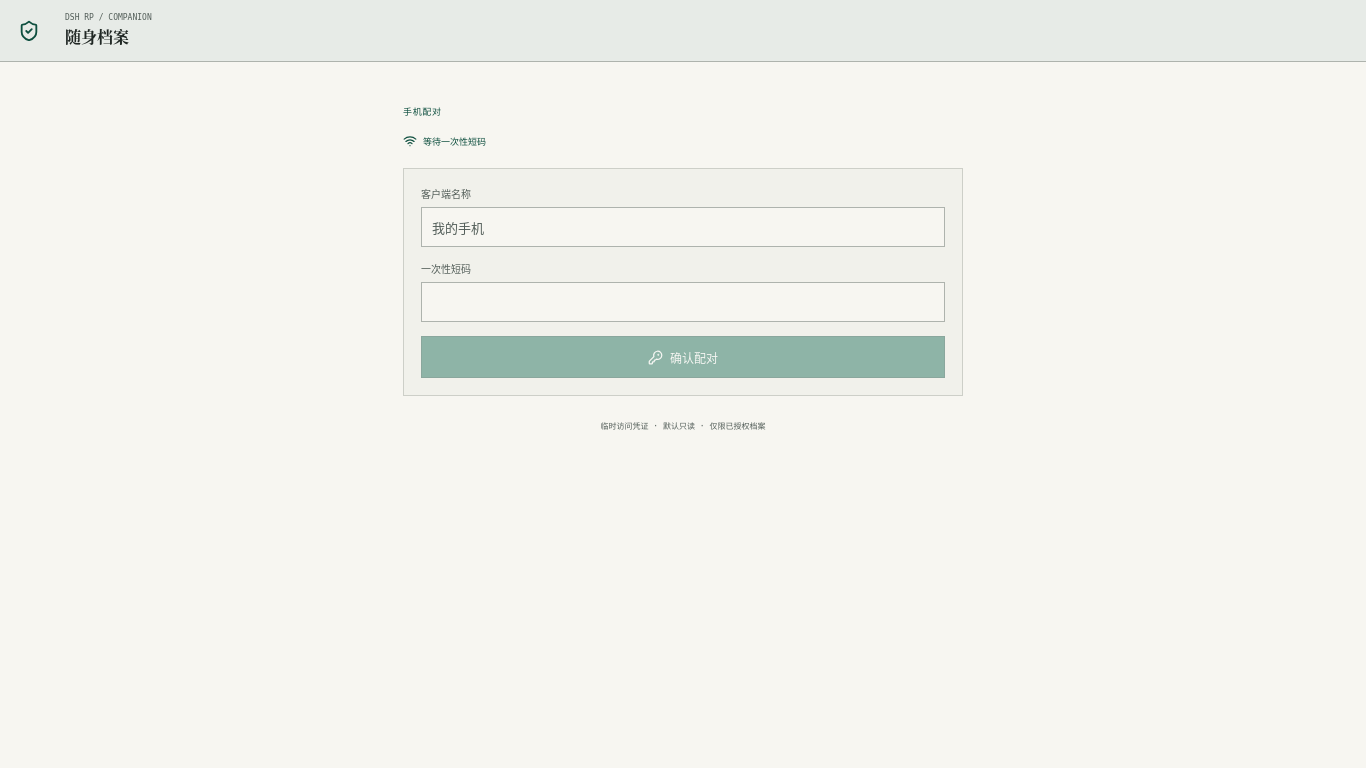
Test: companion session isolation › removes authenticated content and stops work after http revocation
Type "one-time-code-123456789" into the field named "一次性配对短码" at (683, 302), box [421,282,945,322]
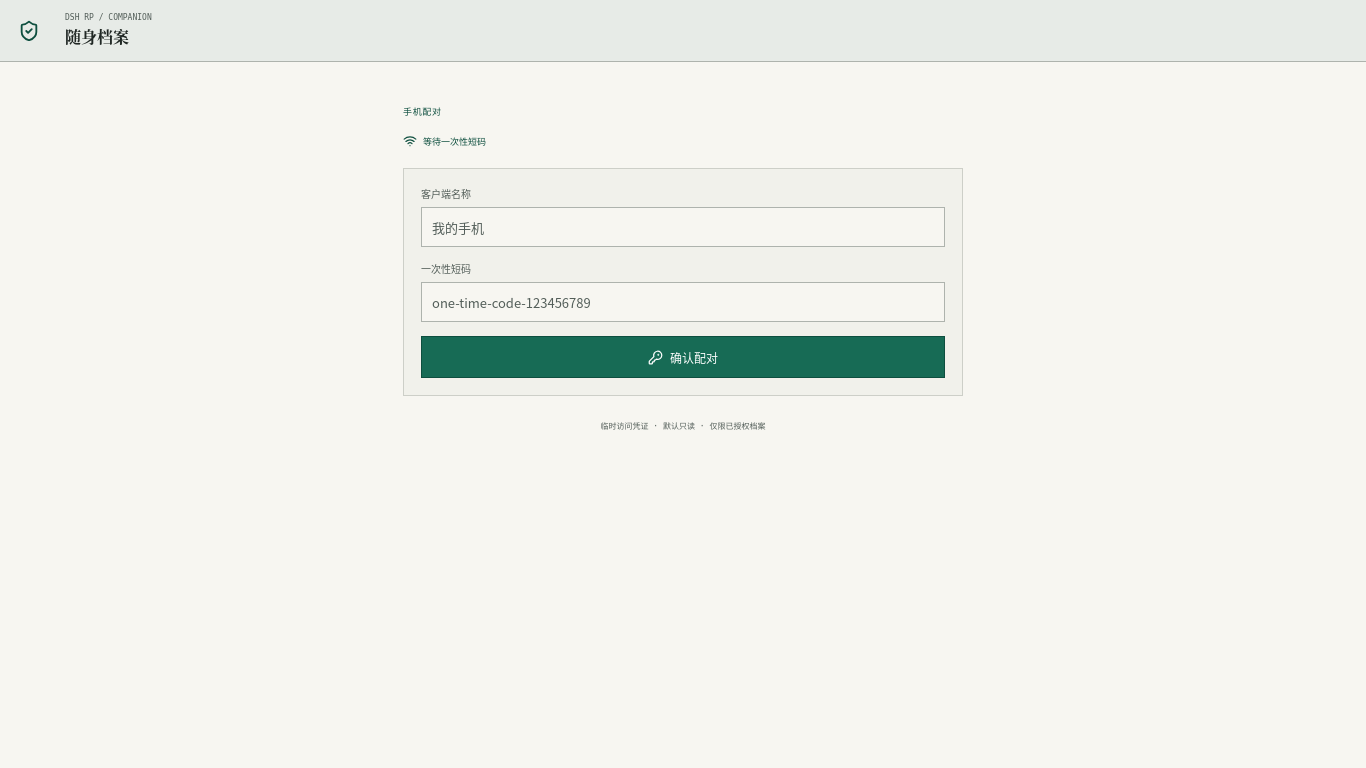
Click the button "确认配对" at (683, 357), box [421,336,945,378]
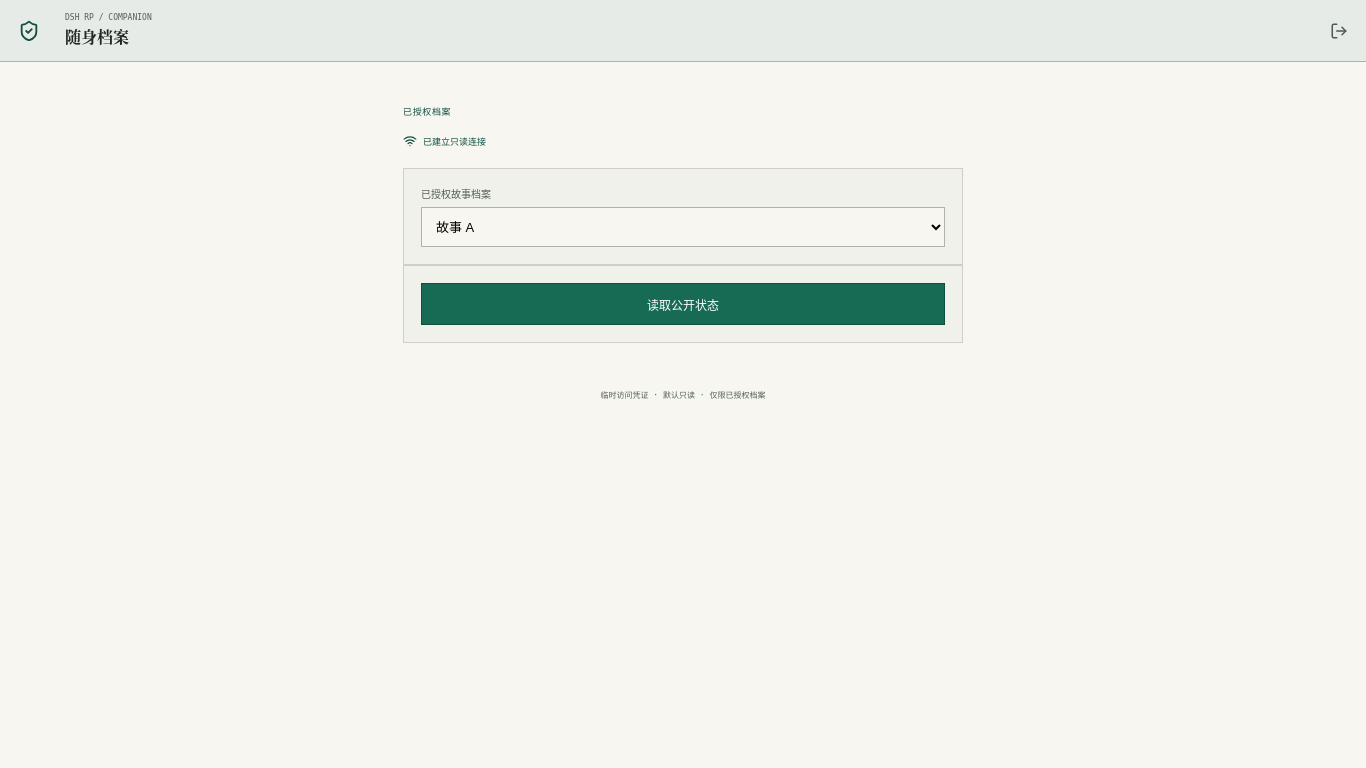
Check: the dropdown labelled "已授权故事档案" is shown, box [421,207,945,247]
Click the button "读取公开状态" at (683, 304), box [421,283,945,325]
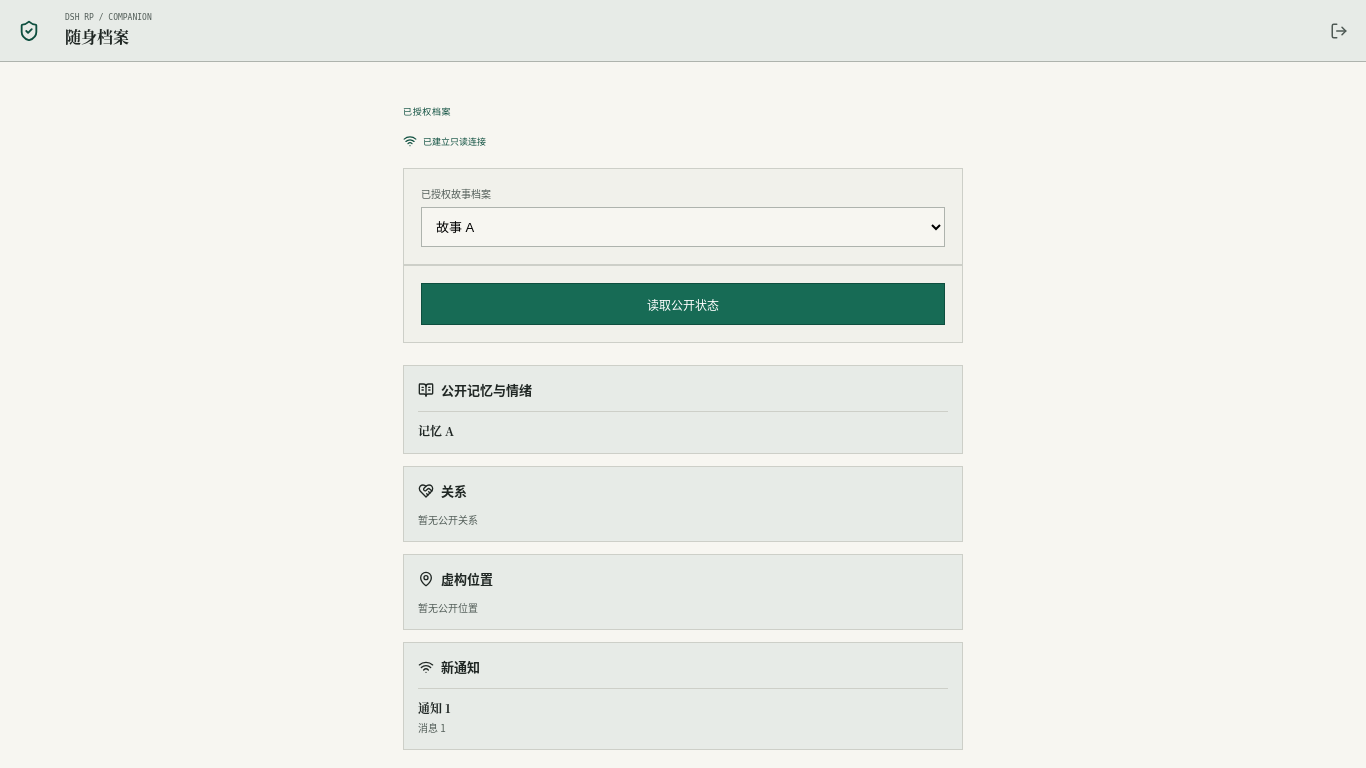
Check: the text "记忆 A" is shown, box [418,422,454,439]
Click the button "读取公开状态" at (683, 304), box [421,283,945,325]
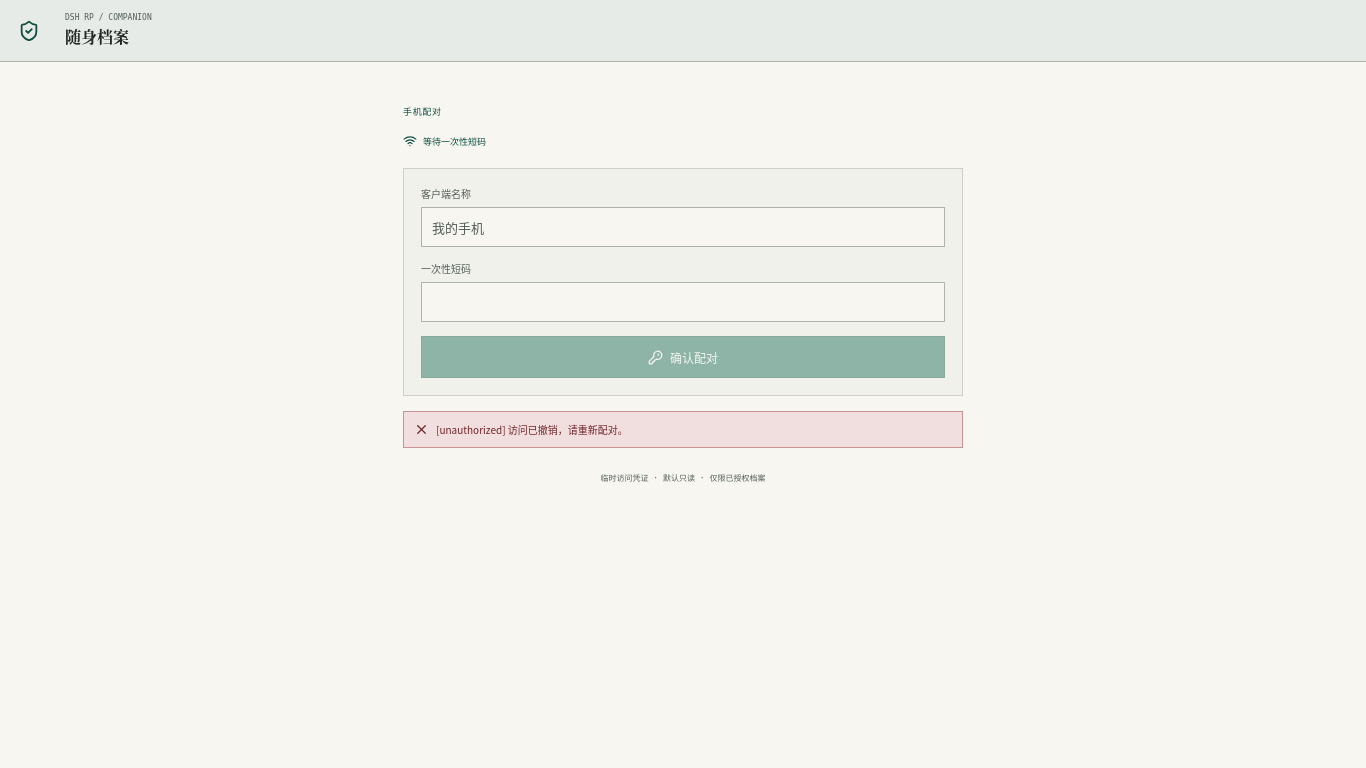
Check: the button "确认配对" is shown, box [421,336,945,378]
Check: the message shows "unauthorized", box [436,422,628,437]
Check: the text labelled "已授权故事档案" is gone
